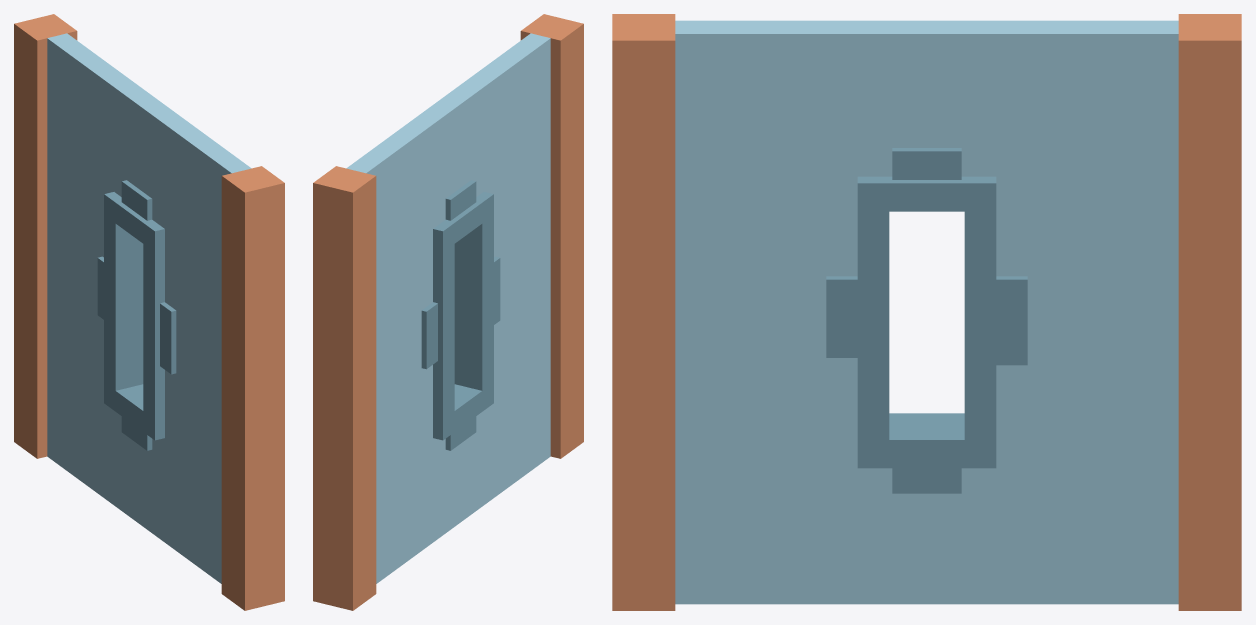
The model's file is wallWindowStone.dae.
3 views of the same model, side by side, from view 1: azimuth 30°, elevation 25°; view 2: azimuth 150°, elevation 25°; view 3: azimuth 270°, elevation 25° (orthographic). The views are drawn at different scales.
Visible parts, largest first — view 1: wallWindowStone; view 2: wallWindowStone; view 3: wallWindowStone.
Part boxes in pixels (bbox=[...]): wallWindowStone: bbox=[14, 14, 284, 610]; wallWindowStone: bbox=[313, 14, 583, 610]; wallWindowStone: bbox=[612, 14, 1241, 610].
Size of the model in its own units: 0.1 by 1 by 1.
